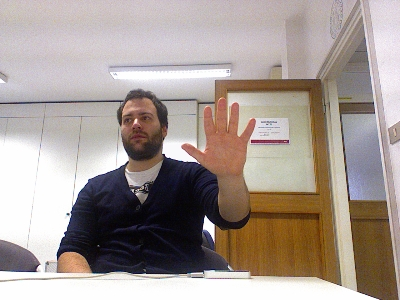布: (179, 96, 256, 178)
